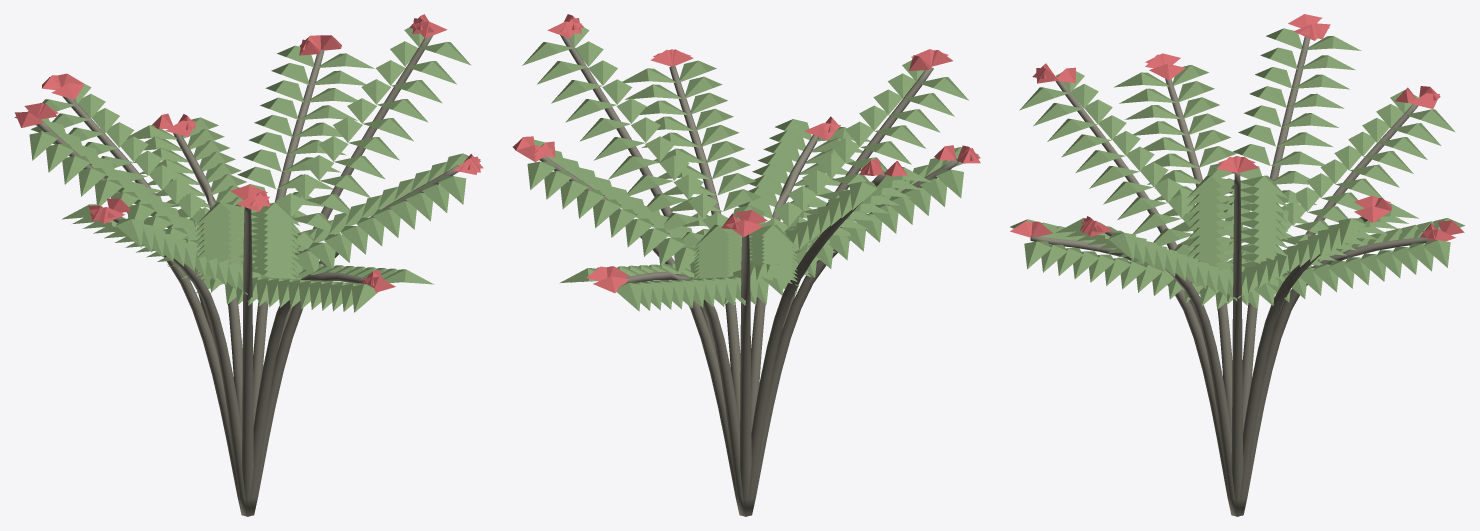
Rendered from grove-specimen-22.glb.
3 views of the same model, side by side, from view 1: azimuth 30°, elevation 25°; view 2: azimuth 150°, elevation 25°; view 3: azimuth 270°, elevation 25° (orthographic). The views are drawn at different scales.
Parts seen in each view (by area): view 1: grove-specimen-22; view 2: grove-specimen-22; view 3: grove-specimen-22.
Boxes of the visible parts, x1,y1,x2,y2 form: grove-specimen-22: (14,14,483,516); grove-specimen-22: (512,14,980,516); grove-specimen-22: (1010,14,1464,516).
Size of the model in its own units: 1.67 by 1.82 by 1.7.
